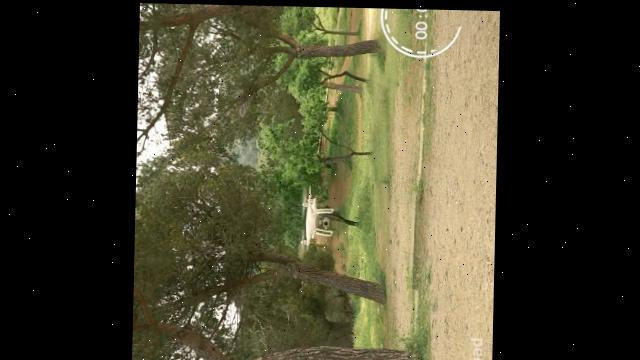drone: (299, 181, 334, 252)
